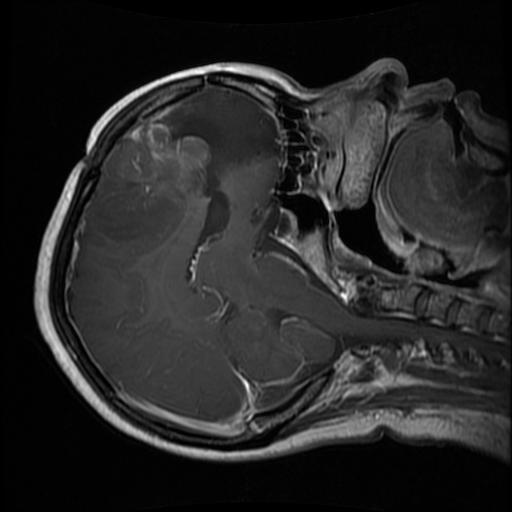glioma: (109, 86, 274, 287)
